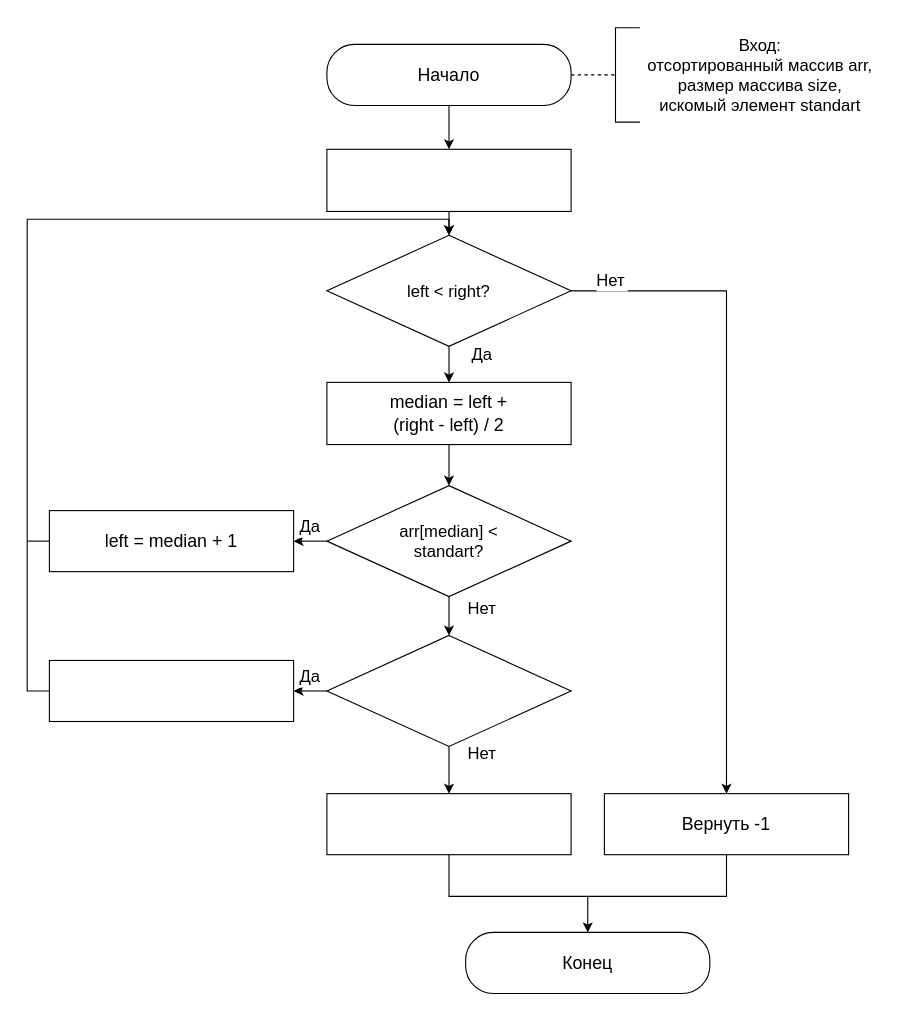
This 920x1012 diagram has some shape labels left out. Here are the shapes that lost their labels. From the top down, the centre of each, then its label:
At (x=448, y=179): "left = 0 right = size".
At (x=171, y=690): "right = median".
At (x=448, y=690): "arr[median] > standart?".
At (x=448, y=824): "Вернуть median".
